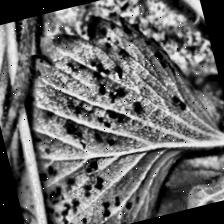Angular Leafspot: (0, 0, 224, 224), (24, 170, 224, 224)
